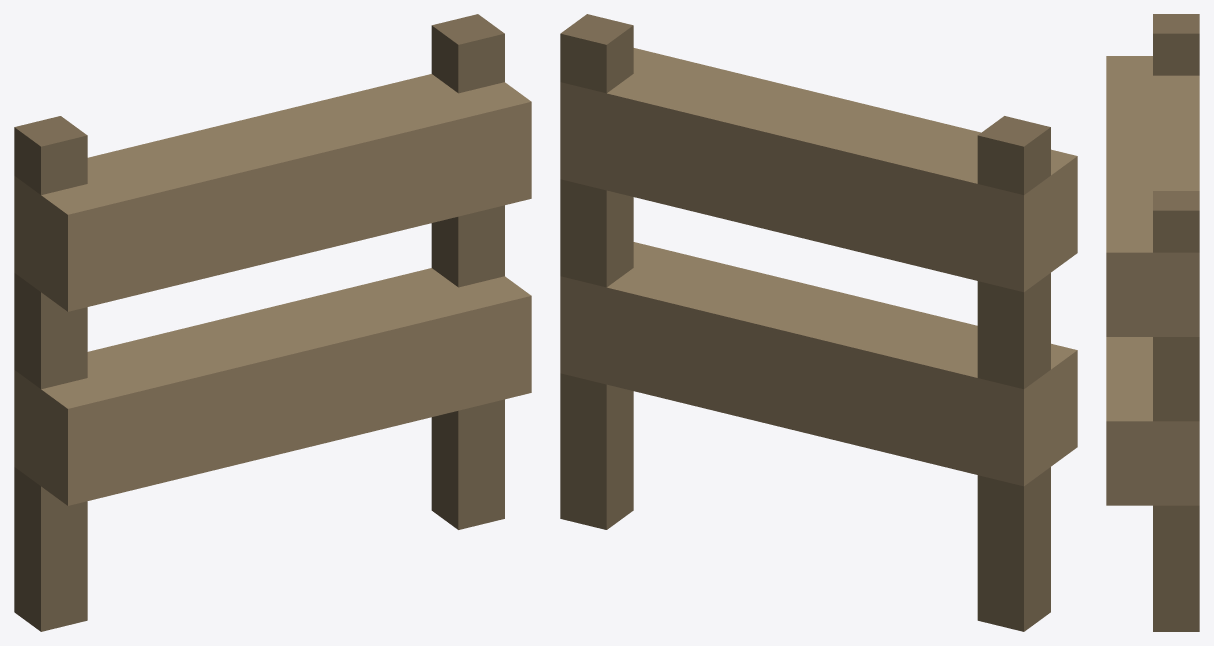
The model's file is valla_madera_03.glb.
The picture shows the model from 3 angles, left to right: view 1: azimuth 30°, elevation 25°; view 2: azimuth 150°, elevation 25°; view 3: azimuth 270°, elevation 25°; orthographic projection. The views are drawn at different scales.
Visible parts, largest first — view 1: valla_madera_03; view 2: valla_madera_03; view 3: valla_madera_03.
Boxes of the visible parts, x1,y1,x2,y2 form: valla_madera_03: (14, 14, 531, 631); valla_madera_03: (560, 14, 1077, 631); valla_madera_03: (1106, 14, 1199, 631).
Size of the model in its own units: 1 by 1 by 0.2.
